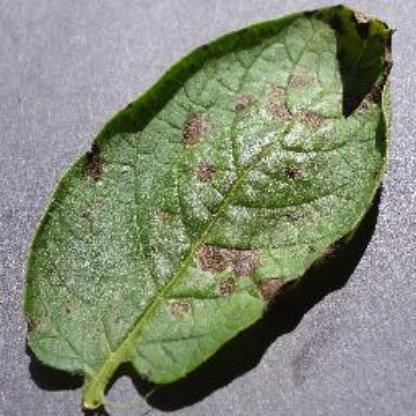Early-Blight: (22, 5, 394, 410)
